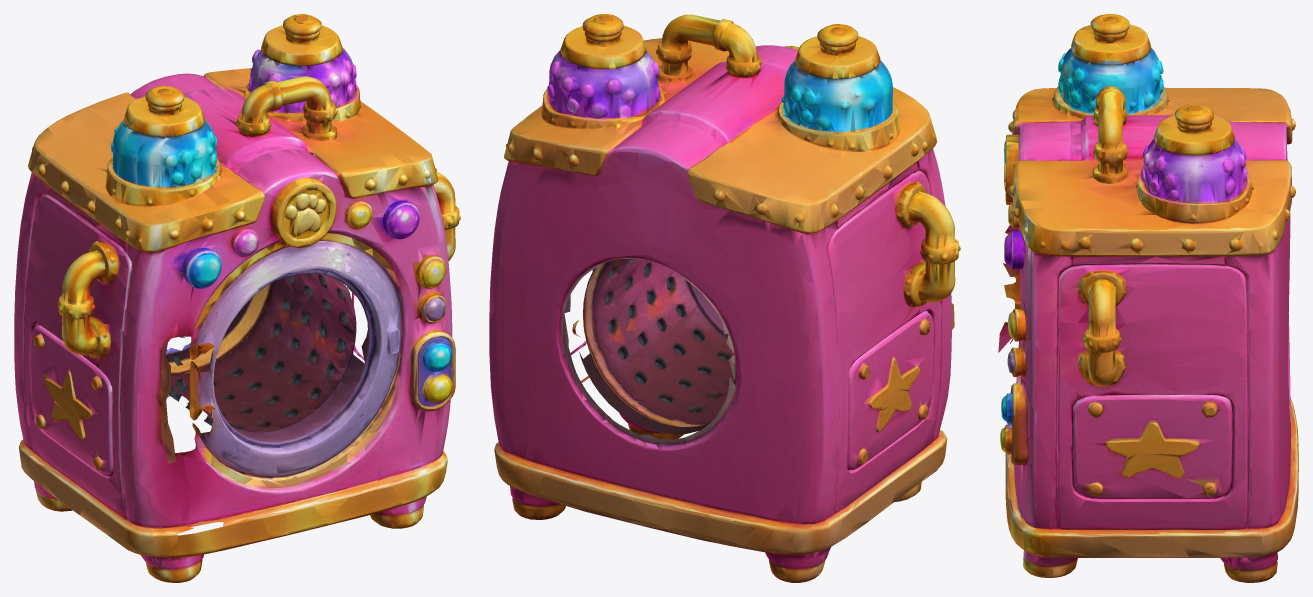
The model's file is washer_tripo_hj748.glb.
3 renders of one model, left to right at view 1: azimuth 30°, elevation 25°; view 2: azimuth 150°, elevation 25°; view 3: azimuth 270°, elevation 25°, orthographic. The views are drawn at different scales.
Visible parts, largest first — view 1: tripo_node_13a5815c-5b64-4dbb-a1f6-9d918623e3f0; view 2: tripo_node_13a5815c-5b64-4dbb-a1f6-9d918623e3f0; view 3: tripo_node_13a5815c-5b64-4dbb-a1f6-9d918623e3f0.
Boxes of the visible parts, left/top/right/bottom form: tripo_node_13a5815c-5b64-4dbb-a1f6-9d918623e3f0: left=14, top=14, right=460, bottom=582; tripo_node_13a5815c-5b64-4dbb-a1f6-9d918623e3f0: left=489, top=14, right=960, bottom=582; tripo_node_13a5815c-5b64-4dbb-a1f6-9d918623e3f0: left=998, top=14, right=1298, bottom=582.
Bounding box in the file's own units: 0.8914 × 0.9701 × 0.6015.
Materials: 1 (1 with a texture image).
